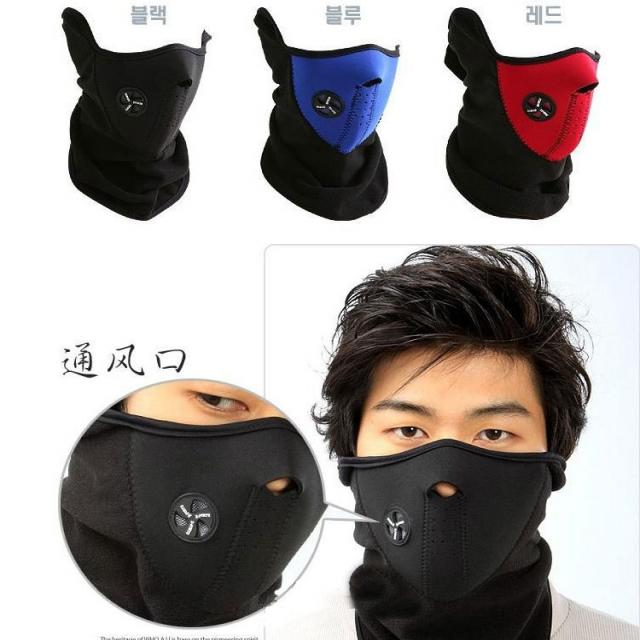mask: (352, 328, 554, 606)
